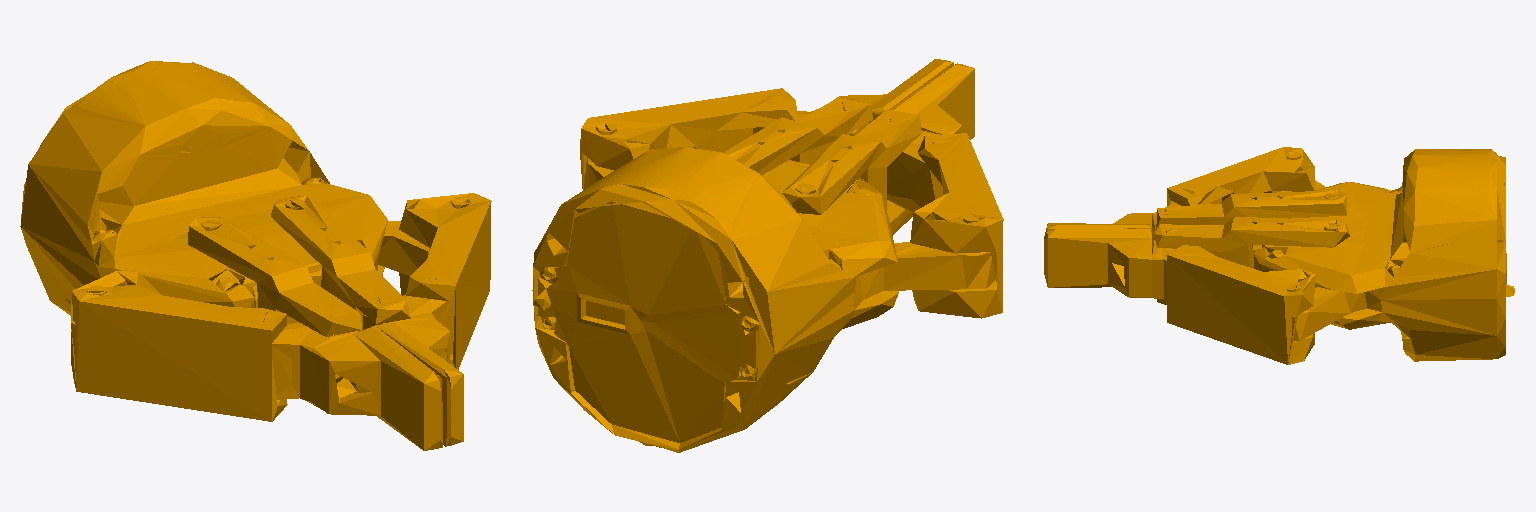
URDF robot description (tm12):
<?xml version="1.0" ?>
<robot name="tm12">

  <link name="base_link">
    <visual>
      <geometry>
        <mesh filename="package://tm_models/meshes/tm12_1300/visual/tm12_base.stl"/>
      </geometry>
      <material name="LightGrey">
        <color rgba="0.5 0.5 0.5 1.0"/>
      </material>
    </visual>
    <collision>
      <geometry>
        <mesh filename="package://tm_models/meshes/tm12_1300/collision/tm12_base_c.STL"/>
      </geometry>
    </collision>
    <inertial>
      <mass value="1.0"/>
      <origin rpy="0 0 0" xyz="0 0 0"/>
      <inertia ixx="0.00110833289" ixy="0.0" ixz="0.0" iyy="0.0018" iyz="0.0" izz="0.00110833289"/>
    </inertial>
  </link>

  <joint name="joint_1" type="revolute">
    <parent link="base_link"/>
    <child link="shoulder_1_link"/>
    <origin rpy="0 0 0" xyz="0 0.1652 0"/>
    <axis xyz="0 1 0"/>
    <limit effort="150.0" lower="-4.71238898038469" upper="4.71238898038469" velocity="3.15"/>
    <dynamics damping="0.0" friction="0.0"/>
  </joint>
  
  <link name="shoulder_1_link">
    <visual>
      <geometry>
        <mesh filename="package://tm_models/meshes/tm12_1300/visual/tm_750w_01.stl"/>
      </geometry>
      <material name="DarkOlive">
        <color rgba="0.3 0.3 0.25 1.0"/>
      </material>
    </visual>
    <collision>
      <geometry>
        <mesh filename="package://tm_models/meshes/tm12_1300/collision/tm_750w_01_c.STL"/>
      </geometry>
    </collision>
    <inertial>
      <mass value="4.5"/>
      <origin rpy="0 0 0" xyz="0 0 0"/>
      <inertia ixx="0.012487495005" ixy="0.0" ixz="0.0" iyy="0.0081" iyz="0.0" izz="0.012487495005"/>
    </inertial>
  </link>

  <joint name="joint_2" type="revolute">
    <parent link="shoulder_1_link"/>
    <child link="arm_1_link"/>
    <origin rpy="0 0 0" xyz="0 0 0.1801"/>
    <axis xyz="0 0 -1"/>
    <limit effort="150.0" lower="-3.141592653589793" upper="3.141592653589793" velocity="3.15"/>
    <dynamics damping="0.0" friction="0.0"/>
  </joint>

  <link name="arm_1_link">
    <visual>
      <geometry>
        <mesh filename="package://tm_models/meshes/tm12_1300/visual/tm12_arm1.stl"/>
      </geometry>
      <material name="DarkOlive">
        <color rgba="0.3 0.3 0.25 1.0"/>
      </material>
    </visual>
    <collision>
      <geometry>
        <mesh filename="package://tm_models/meshes/tm12_1300/collision/tm12_arm1_c.STL"/>
      </geometry>
    </collision>
    <inertial>
      <mass value="11.0"/>
      <origin rpy="0 0 0" xyz="0 0.31805 0"/>
      <inertia ixx="0.38080445684482295" ixy="0.0" ixz="0.0" iyy="0.019799999999999998" iyz="0.0" izz="0.38080445684482295"/>
    </inertial>
  </link>

  <joint name="joint_3" type="revolute">
    <parent link="arm_1_link"/>
    <child link="arm_2_link"/>
    <origin rpy="0 0 0" xyz="0 0.6361 -0.12980000000000003"/>
    <axis xyz="0 0 -1"/>
    <limit effort="150.0" lower="-3.141592653589793" upper="3.141592653589793" velocity="3.15"/>
    <dynamics damping="0.0" friction="0.0"/>
  </joint>

  <link name="arm_2_link">
    <visual>
      <geometry>
        <mesh filename="package://tm_models/meshes/tm12_1300/visual/tm12_arm2.stl"/>
      </geometry>
      <material name="DarkOlive">
        <color rgba="0.3 0.3 0.25 1.0"/>
      </material>
    </visual>
    <collision>
      <geometry>
        <mesh filename="package://tm_models/meshes/tm12_1300/collision/tm12_arm2_c.STL"/>
      </geometry>
    </collision>
    <inertial>
      <mass value="2.5"/>
      <origin rpy="0 0 0" xyz="0 0.27895 0"/>
      <inertia ixx="0.06610985063938249" ixy="0.0" ixz="0.0" iyy="0.0025312499999999996" iyz="0.0" izz="0.06610985063938249"/>
    </inertial>
  </link>

  <joint name="joint_4" type="revolute">
    <parent link="arm_2_link"/>
    <child link="wrist_1_link"/>
    <origin rpy="0 0 0" xyz="0 0.5579 0.106"/>
    <axis xyz="0 0 -1"/>
    <limit effort="150.0" lower="-3.141592653589793" upper="3.141592653589793" velocity="3.15"/>
    <dynamics damping="0.0" friction="0.0"/>
  </joint>

  <link name="wrist_1_link">
    <visual>
      <geometry>
        <mesh filename="package://tm_models/meshes/tm12_1300/visual/tm_100w_01.stl"/>
      </geometry>
      <material name="DarkOlive">
        <color rgba="0.3 0.3 0.25 1.0"/>
      </material>
    </visual>
    <collision>
      <geometry>
        <mesh filename="package://tm_models/meshes/tm12_1300/collision/tm_100w_01_c.STL"/>
      </geometry>
    </collision>
    <inertial>
      <mass value="1.45"/>
      <origin rpy="0 0 0" xyz="0 0 0"/>
      <inertia ixx="0.002474061510375" ixy="0.0" ixz="0.0" iyy="0.001468125" iyz="0.0" izz="0.002474061510375"/>
    </inertial>
  </link>

  <joint name="joint_5" type="revolute">
    <parent link="wrist_1_link"/>
    <child link="wrist_2_link"/>
    <origin rpy="0 0 0" xyz="0 0.106 0"/>
    <axis xyz="0 1 0"/>
    <limit effort="150.0" lower="-3.141592653589793" upper="3.141592653589793" velocity="3.15"/>
    <dynamics damping="0.0" friction="0.0"/>
  </joint>

  <link name="wrist_2_link">
    <visual>
      <geometry>
        <mesh filename="package://tm_models/meshes/tm12_1300/visual/tm_100w_02.stl"/>
      </geometry>
      <material name="DarkOlive">
        <color rgba="0.3 0.3 0.25 1.0"/>
      </material>
    </visual>
    <collision>
      <geometry>
        <mesh filename="package://tm_models/meshes/tm12_1300/collision/tm_100w_02_c.stl"/>
      </geometry>
    </collision>
    <inertial>
      <mass value="1.45"/>
      <origin rpy="0 0 0" xyz="0 0 0"/>
      <inertia ixx="0.002474061510375" ixy="0.0" ixz="0.0" iyy="0.002474061510375" iyz="0.0" izz="0.001468125"/>
    </inertial>
  </link>

  <joint name="joint_6" type="revolute">
    <parent link="wrist_2_link"/>
    <child link="wrist_3_link"/>
    <origin rpy="0 0 0" xyz="0 0 0.11315"/>
    <axis xyz="0 0 1"/>
    <limit effort="150.0" lower="-4.71238898038469" upper="4.71238898038469" velocity="3.15"/>
    <dynamics damping="0.0" friction="0.0"/>
  </joint>

  <link name="wrist_3_link">
    <visual>
      <geometry>
        <mesh filename="package://tm_models/meshes/tm12_1300/visual/tm_ee.stl"/>
      </geometry>
      <material name="LightGrey">
        <color rgba="0.5 0.5 0.5 1.0"/>
      </material>
    </visual>
    <collision>
      <geometry>
        <mesh filename="package://tm_models/meshes/tm12_1300/collision/tm_ee_c.stl"/>
      </geometry>
    </collision>
    <inertial>
      <mass value="0.4"/>
      <origin rpy="0 0 0" xyz="0 0 0"/>
      <inertia ixx="0.000322499871" ixy="0.0" ixz="0.0" iyy="0.000322499871" iyz="0.0" izz="0.000405"/>
    </inertial>
  </link>
  
  <joint name="flange_fixed_joint" type="fixed">
    <parent link="wrist_3_link"/>
    <child link="flange_link"/>
    <origin rpy="0 0 0" xyz="0 0 0"/>
  </joint>
  <link name="flange_link">
    </link>

  <joint name="joint_EOAT" type="fixed">
    <parent link="flange_link"/>
    <child link="EOAT"/>
    <origin xyz="0 0 0" rpy="0 0 0"/>
    <axis xyz="0 0 0"/>
  </joint>

  <link name="EOAT">
    <visual>
      <geometry>
        <mesh filename="package://tmr_description/meshes/gripper/robotiq/2f-85/robotiq_85_gripper.obj"/>
      </geometry>
    </visual>
    <collision>
      <geometry>
        <mesh filename="package://tmr_description/meshes/gripper/robotiq/2f-85/robotiq_85_gripper.stl"/>
      </geometry>
    </collision>
  </link>
  
  <!-- ROS base to TM 'base_link' Coordinates transform -->
  <link name="base"/>
  <joint name="base-base_link" type="fixed">
    <parent link="base"/>
    <child link="base_link"/>
    <origin rpy="1.5707963267948966 0 0" xyz="0 0 0"/>
    <!-- Note: 0.5 * pi -->
  </joint>
  <!-- Frame coincident with all-zeros TCP on TM controller -->
  <link name="tool0"/>
  <joint name="flange_link-tool0" type="fixed">
    <parent link="flange_link"/>
    <child link="tool0"/>
    <origin rpy="0 0 0" xyz="0 0 0"/>
  </joint>
  <link name="world"/>
  <joint name="world_joint" type="fixed">
    <parent link="world"/>
    <child link="base"/>
    <origin rpy="0 0 0" xyz="0 0 0"/>
  </joint>
</robot>

--- Facts derived from the render (not from the file) ---
3 views of the same robot in one strip: view 1: azimuth 30°, elevation 25°; view 2: azimuth 150°, elevation 25°; view 3: azimuth 270°, elevation 25° (orthographic).
Robot: tm12 — 12 links, 11 joints (6 revolute, 5 fixed); root link world; default pose: every joint at zero.
Links seen in each view (by area): view 1: EOAT; view 2: EOAT; view 3: EOAT.
Boxes of the visible links, x1,y1,x2,y2 form: EOAT: (20,61,491,450); EOAT: (532,59,1003,452); EOAT: (1044,147,1514,364).
Bounding box of the posed robot: 0.126 × 0.1663 × 0.0747 m (x, y, z).
1 mesh visuals loaded from 8 distinct referenced files (1 OBJ); not drawn: 7 (file found but could not be loaded).